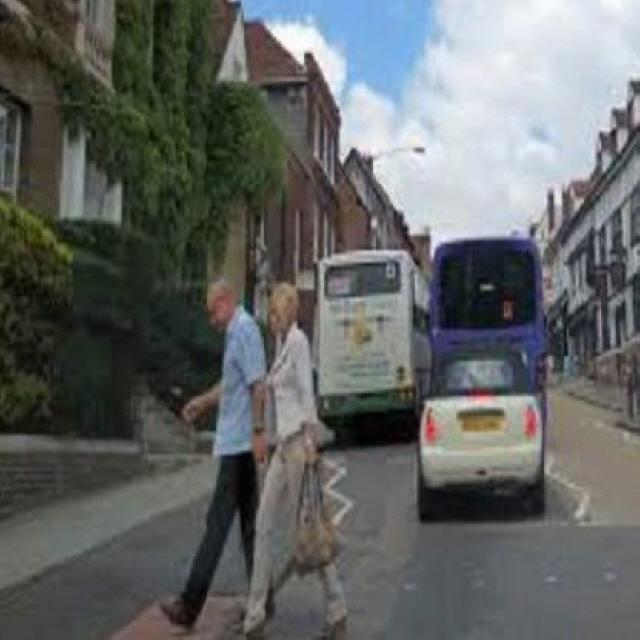Stand: (161, 280, 267, 630), (244, 284, 346, 640)
